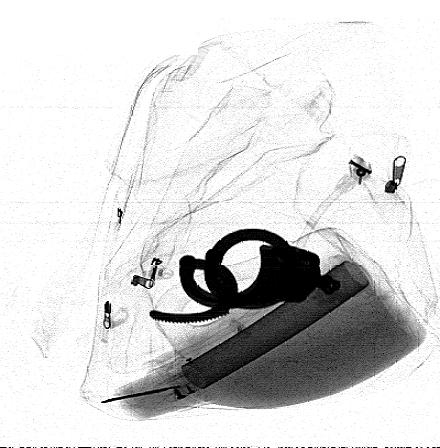HandCuffs: (149, 228, 342, 325)
